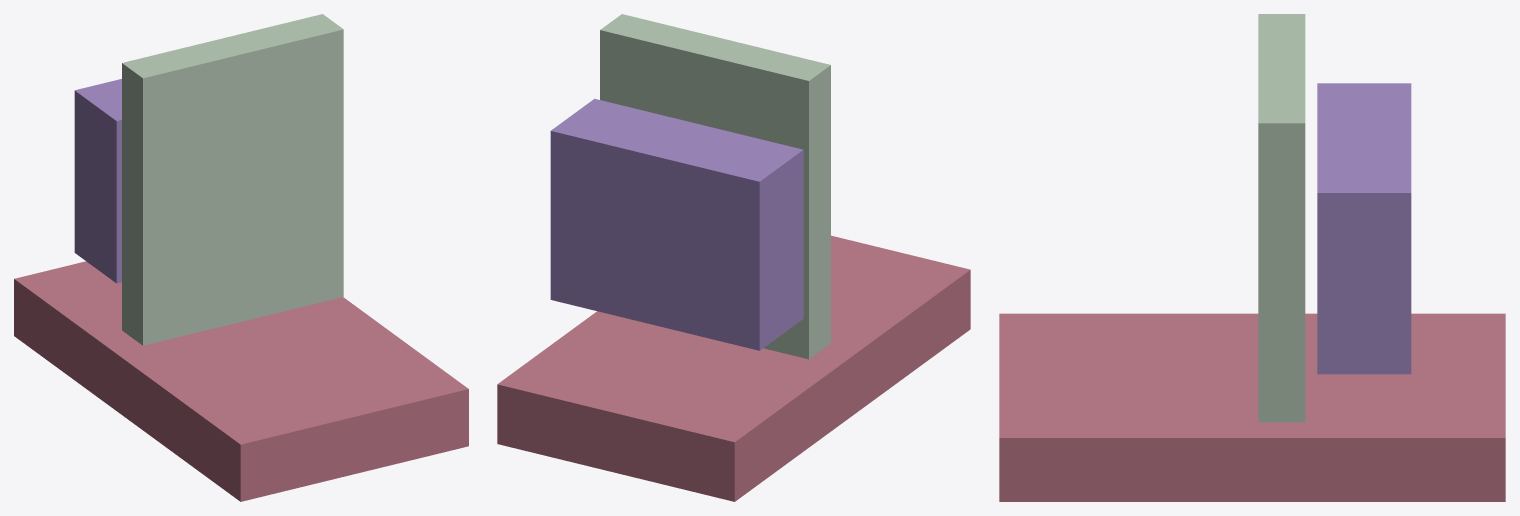
File: 199513_pred.glb
3 views of the same model, side by side, from view 1: azimuth 30°, elevation 25°; view 2: azimuth 150°, elevation 25°; view 3: azimuth 270°, elevation 25° (orthographic). The views are drawn at different scales.
Parts seen in each view (by area): view 1: world; view 2: world; view 3: world.
Part boxes in pixels (<box>): world: <box>14,14,468,501</box>; world: <box>497,14,970,501</box>; world: <box>999,14,1505,501</box>.
Size of the model in its own units: 2.5 by 3.5 by 4.3.
